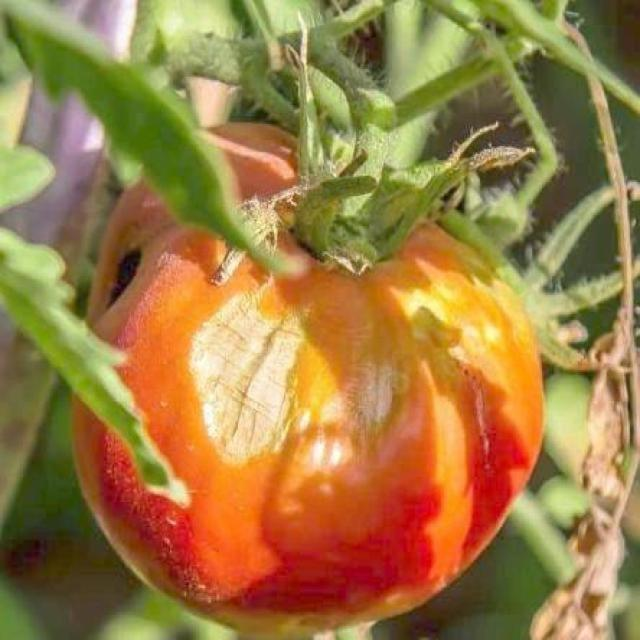Sunscald Fruit: (118, 168, 352, 346)
